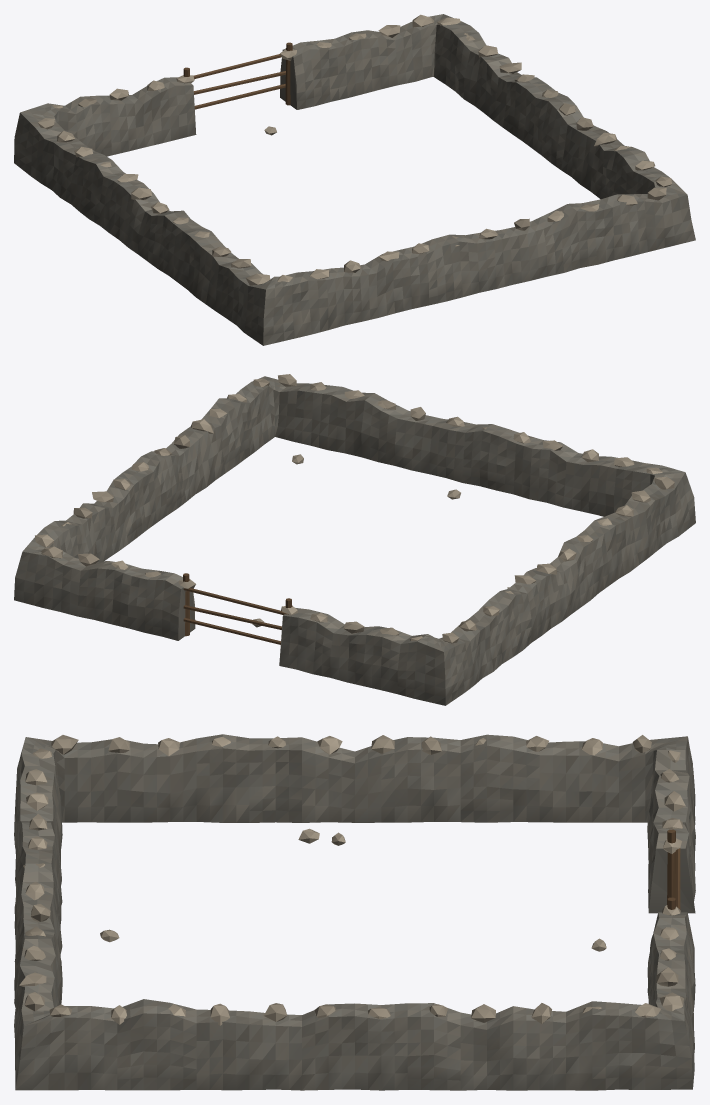
The model's file is hx_corral.glb.
3 views of the same model, one above another, from view 1: azimuth 30°, elevation 25°; view 2: azimuth 150°, elevation 25°; view 3: azimuth 270°, elevation 25° (orthographic). The views are drawn at different scales.
Parts seen in each view (by area): view 1: hx_corral_geometry; view 2: hx_corral_geometry; view 3: hx_corral_geometry.
Part boxes in pixels (left/top/right/bottom): hx_corral_geometry: left=14, top=14, right=695, bottom=345; hx_corral_geometry: left=14, top=374, right=695, bottom=705; hx_corral_geometry: left=14, top=734, right=695, bottom=1090.
Size of the model in its own units: 10.77 by 1.42 by 10.77.
